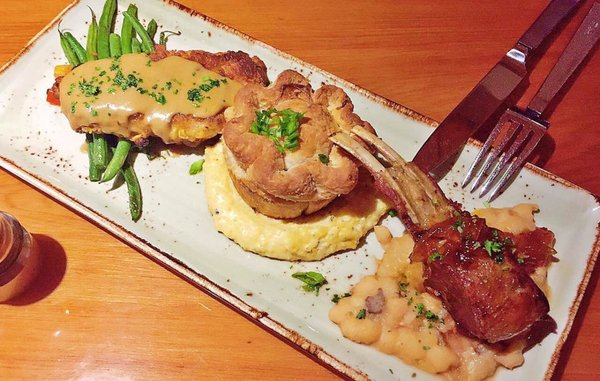curry: (250, 108, 304, 154)
sandwich: (0, 147, 374, 375)
